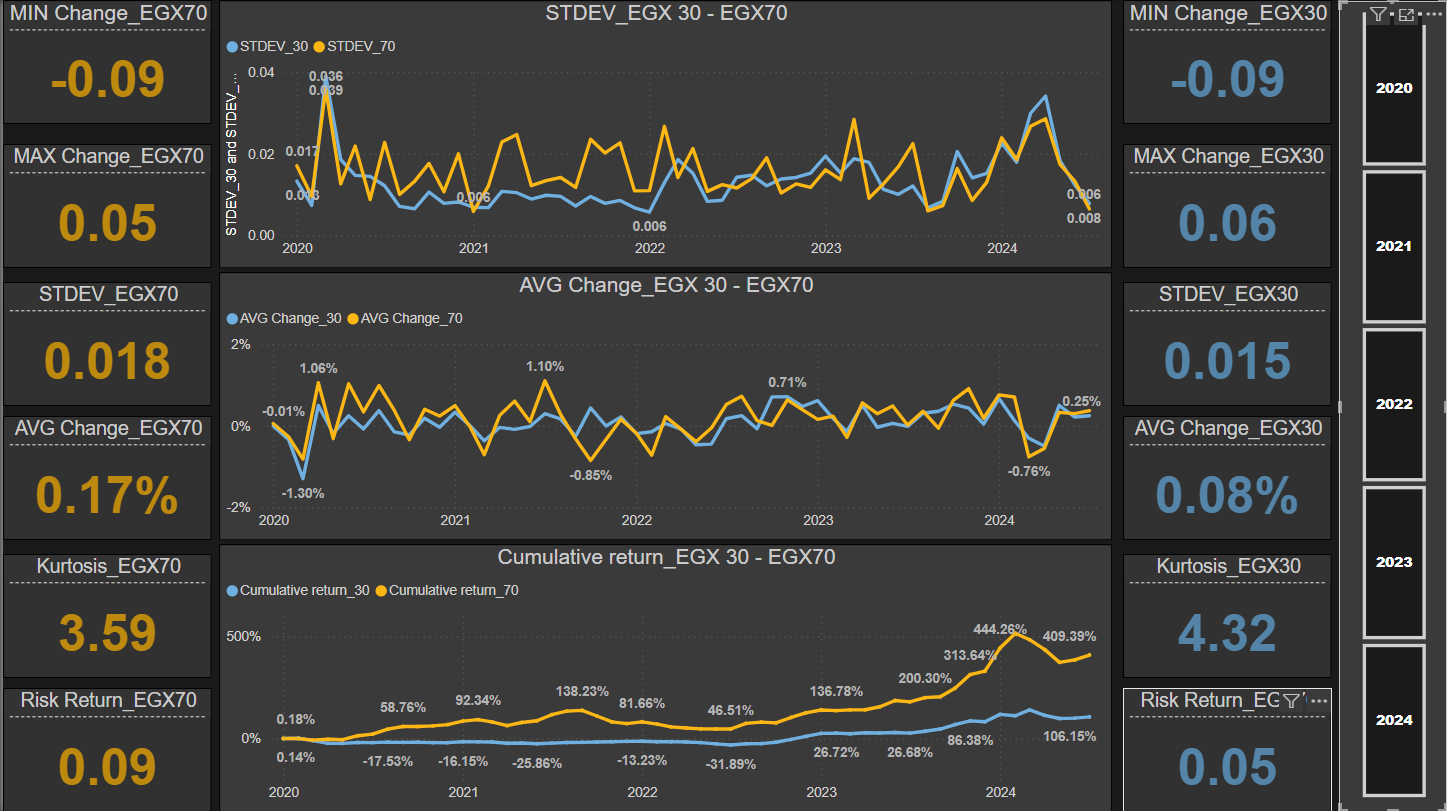

What the dashboard file says about the page in this screenshot:
{"tool":"powerbi","page":{"name":"Dash","canvas":[1280,720],"ordinal":0},"visuals":[{"type":"lineChart","title":"STDEV_EGX 30 - EGX70","fields":{"Category":["EGX 30.date.Variation.Date Hierarchy.Year","EGX 30.date.Variation.Date Hierarchy.Month"],"Y":["#measure.STDEV_30","#measure.STDEV_70"]},"box":[191.5,0,791.8,237.6],"z":0},{"type":"lineChart","title":"AVG Change_EGX 30 - EGX70","fields":{"Category":["EGX 30.date.Variation.Date Hierarchy.Year","EGX 30.date.Variation.Date Hierarchy.Month"],"Y":["#measure.AVG Change_30","#measure.AVG Change_70"]},"box":[191.5,241.2,791.8,237.6],"z":1000},{"type":"lineChart","title":"Cumulative return_EGX 30 - EGX70","fields":{"Category":["EGX 30.date.Variation.Date Hierarchy.Year","EGX 30.date.Variation.Date Hierarchy.Month"],"Y":["#measure.Cumulative return_30","#measure.Cumulative return_70"]},"box":[191.5,482.4,791.8,237.6],"z":2000},{"type":"slicer","fields":{"Values":["EGX 70.year_70"]},"box":[1184.6,0.9,95.8,719.1],"z":3000},{"type":"card","title":"MAX Change_EGX70","fields":{"Values":["Table.MAX Change_70"]},"box":[0,127.7,185.3,110],"z":4000},{"type":"card","title":"MAX Change_EGX30","fields":{"Values":["Table.MAX Change_30"]},"box":[993.1,127.7,185.3,110],"z":5000},{"type":"card","title":"MIN Change_EGX30","fields":{"Values":["#measure.MIN Change_30"]},"box":[993.1,0,185.3,110],"z":6000},{"type":"card","title":"MIN Change_EGX70","fields":{"Values":["#measure.MIN Change_70"]},"box":[0,0,185.3,110],"z":7000},{"type":"card","title":"AVG Change_EGX30","fields":{"Values":["Table.AVG Change_30"]},"box":[993.1,368.9,185.3,110],"z":8000},{"type":"card","title":"AVG Change_EGX70","fields":{"Values":["Table.AVG Change_70"]},"box":[0,368.9,185.3,110],"z":9000},{"type":"card","title":"STDEV_EGX30","fields":{"Values":["#measure.STDEV_30"]},"box":[993.1,250,185.3,110],"z":10000},{"type":"card","title":"STDEV_EGX70","fields":{"Values":["#measure.STDEV_70"]},"box":[0,250,185.3,110],"z":11000},{"type":"card","title":"Kurtosis_EGX70","fields":{"Values":["#measure.Kurtosis_70"]},"box":[0,491.2,185.3,110],"z":12000},{"type":"card","title":"Kurtosis_EGX30","fields":{"Values":["#measure.Kurtosis_30"]},"box":[993.1,491.2,185.3,110],"z":13000},{"type":"card","title":"Risk Return_EGX70","fields":{"Values":["#measure.Risk Return_30"]},"box":[993.1,610,185.3,110],"z":14000},{"type":"card","title":"Risk Return_EGX70","fields":{"Values":["#measure.Risk Return_70"]},"box":[0,610,185.3,110],"z":15000}]}

Visuals, with their boxes in screenshot pixels (x1, y1, x2, y2), scaled from the page's 1280x720 canvas onto the 1447x811 screenshot:
"STDEV_EGX 30 - EGX70" lineChart: [216,0,1112,268]
"AVG Change_EGX 30 - EGX70" lineChart: [216,272,1112,539]
"Cumulative return_EGX 30 - EGX70" lineChart: [216,543,1112,810]
slicer - EGX 70.year_70: [1339,1,1446,810]
"MAX Change_EGX70" card: [0,144,209,268]
"MAX Change_EGX30" card: [1123,144,1332,268]
"MIN Change_EGX30" card: [1123,0,1332,124]
"MIN Change_EGX70" card: [0,0,209,124]
"AVG Change_EGX30" card: [1123,416,1332,539]
"AVG Change_EGX70" card: [0,416,209,539]
"STDEV_EGX30" card: [1123,282,1332,406]
"STDEV_EGX70" card: [0,282,209,406]
"Kurtosis_EGX70" card: [0,553,209,677]
"Kurtosis_EGX30" card: [1123,553,1332,677]
"Risk Return_EGX70" card: [1123,687,1332,810]
"Risk Return_EGX70" card: [0,687,209,810]
